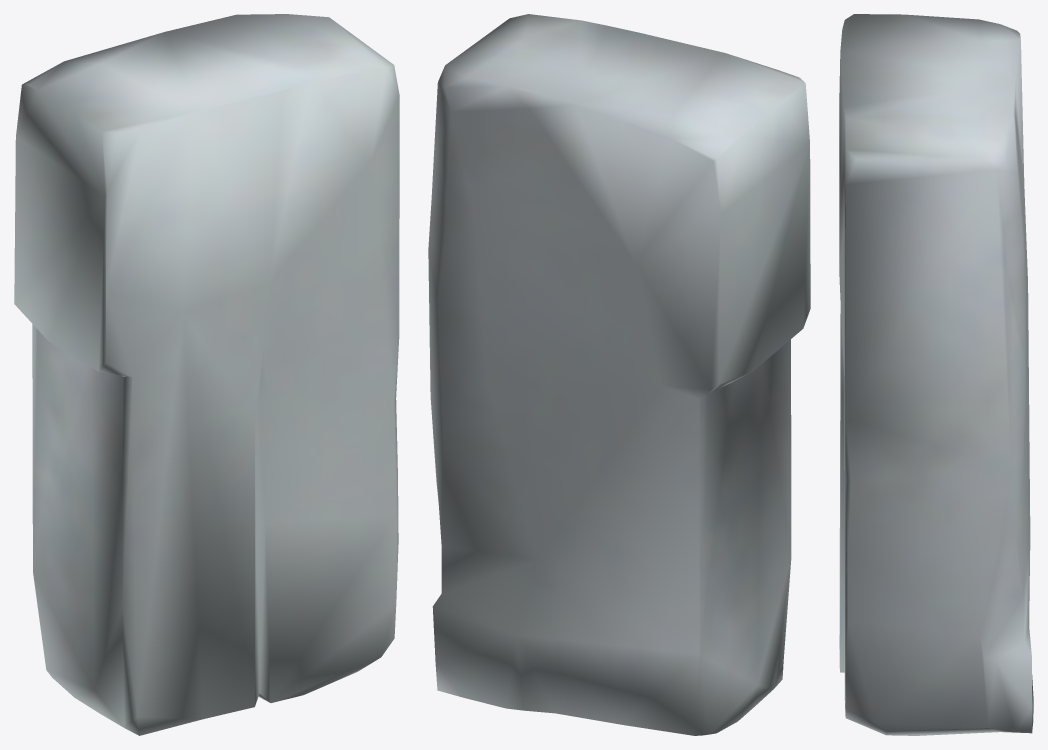
File: P_CubicCliffPiece11.obj
3 renders of one model, left to right at view 1: azimuth 30°, elevation 25°; view 2: azimuth 150°, elevation 25°; view 3: azimuth 270°, elevation 25°, orthographic. The views are drawn at different scales.
Size of the model in its own units: 10.08 by 20.21 by 5.92.
